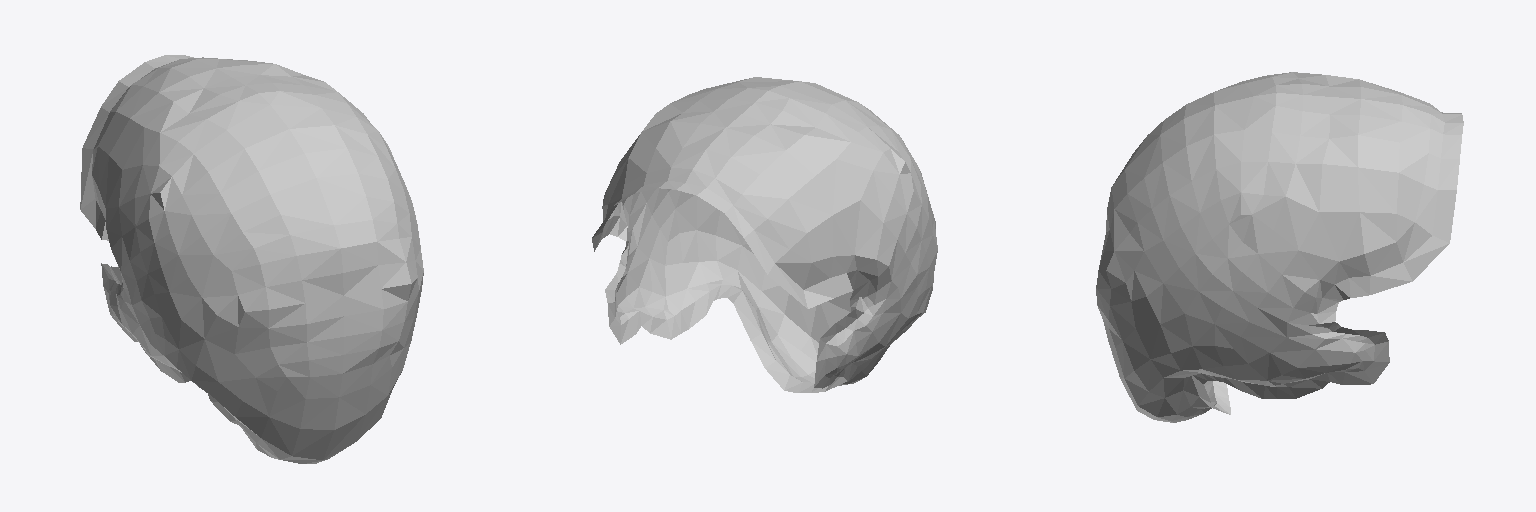
The model's file is hair_000_u_0.obj.
The picture shows the model from 3 angles: view 1: azimuth 30°, elevation 25°; view 2: azimuth 150°, elevation 25°; view 3: azimuth 270°, elevation 25°; orthographic projection.
Bounding box in the file's own units: 0.1963 × 0.231 × 0.2349.